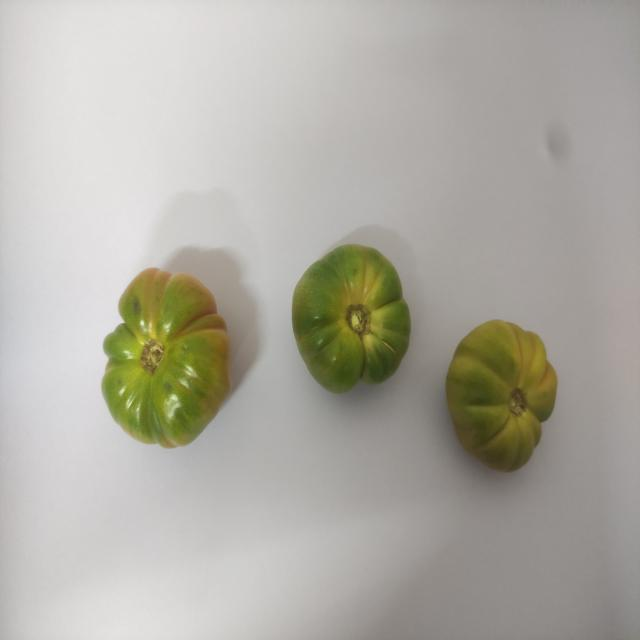yesil: (104, 247, 234, 457), (291, 225, 418, 405), (434, 304, 564, 478)
